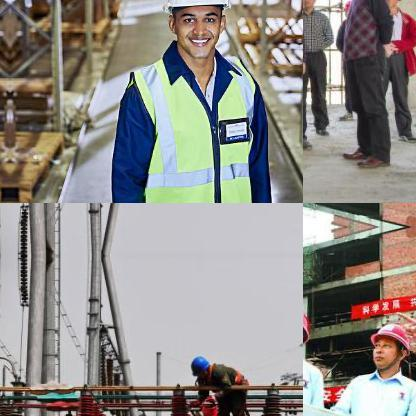Helmet: (154, 0, 235, 69), (365, 323, 413, 372), (188, 352, 212, 378), (303, 305, 314, 354), (381, 0, 404, 12), (303, 0, 321, 9)
